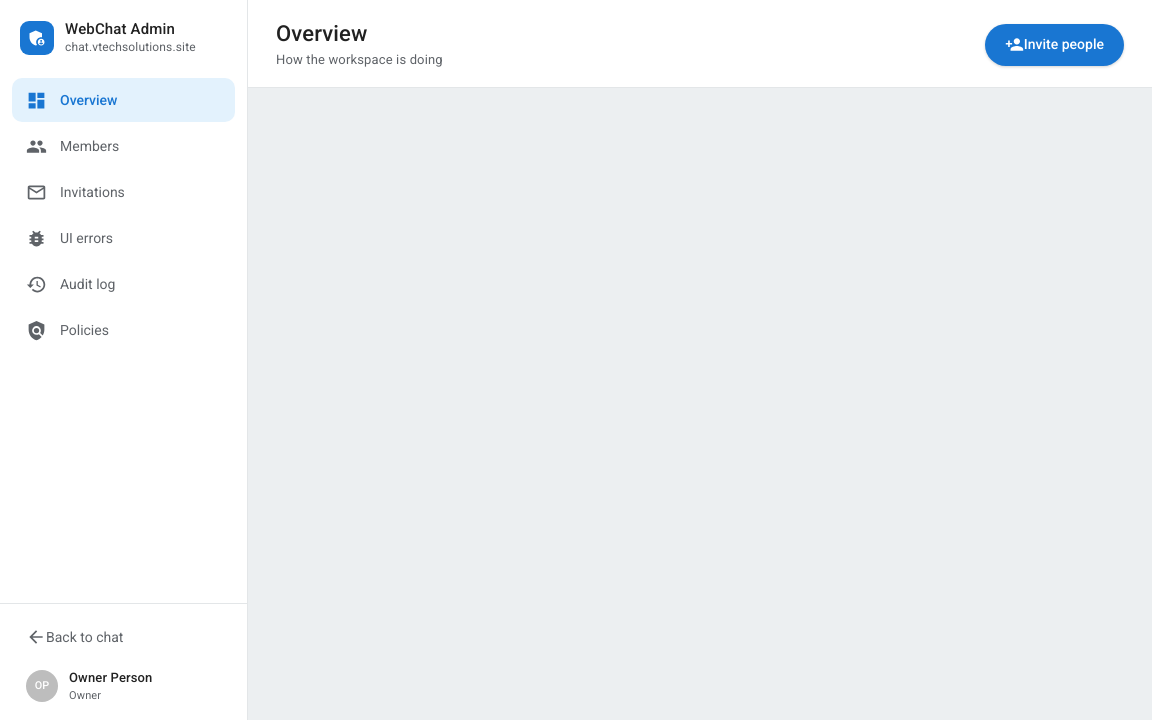
Test: the UI errors section › hides resolved issues until the filter asks for them
Click the button "UI errors": {"x": 124, "y": 238} left=12, top=216, right=235, bottom=260
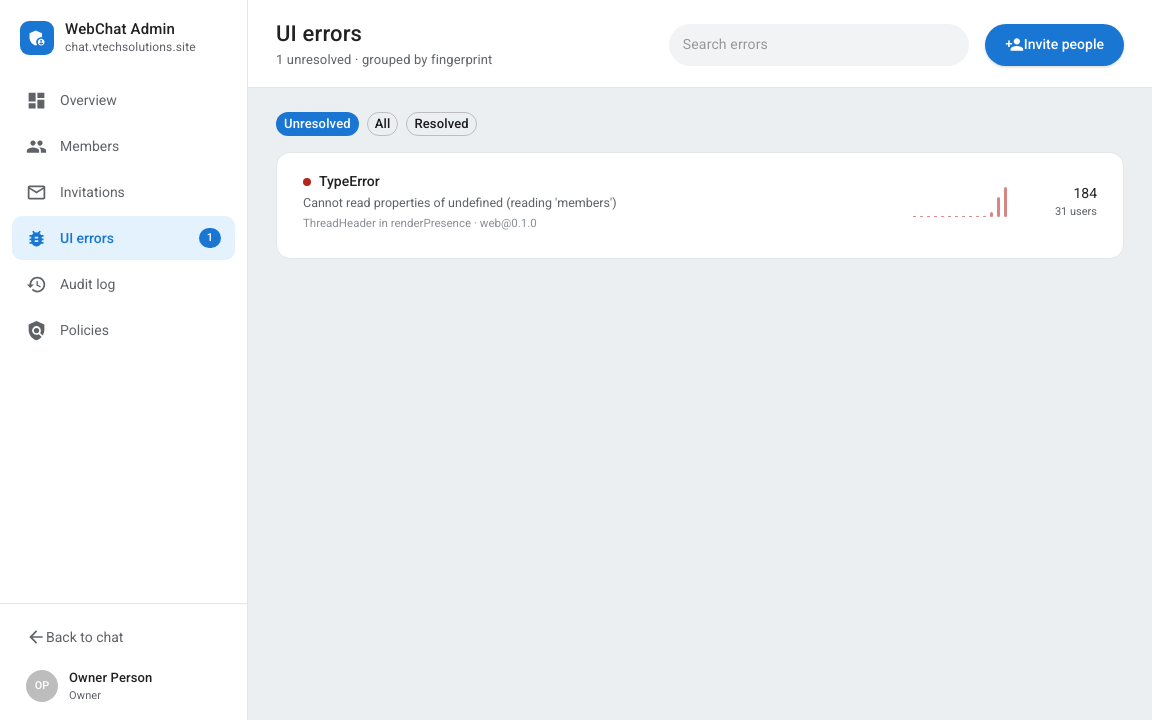
Check: the text "ChunkLoadError" is not shown
Check: the text "TypeError" is shown, box left=319, top=171, right=380, bottom=192
Click the button "Resolved": {"x": 442, "y": 124} left=406, top=112, right=477, bottom=136
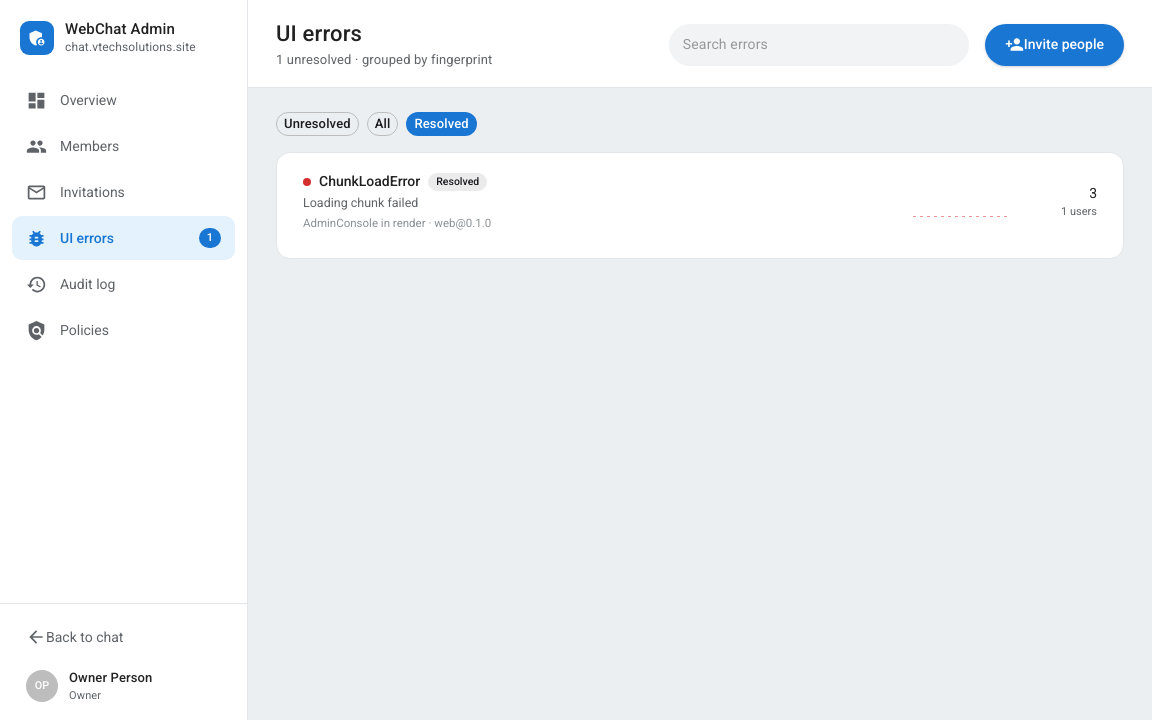
Check: the text "ChunkLoadError" is shown, box left=319, top=171, right=420, bottom=192
Check: the button "TypeError" is gone
